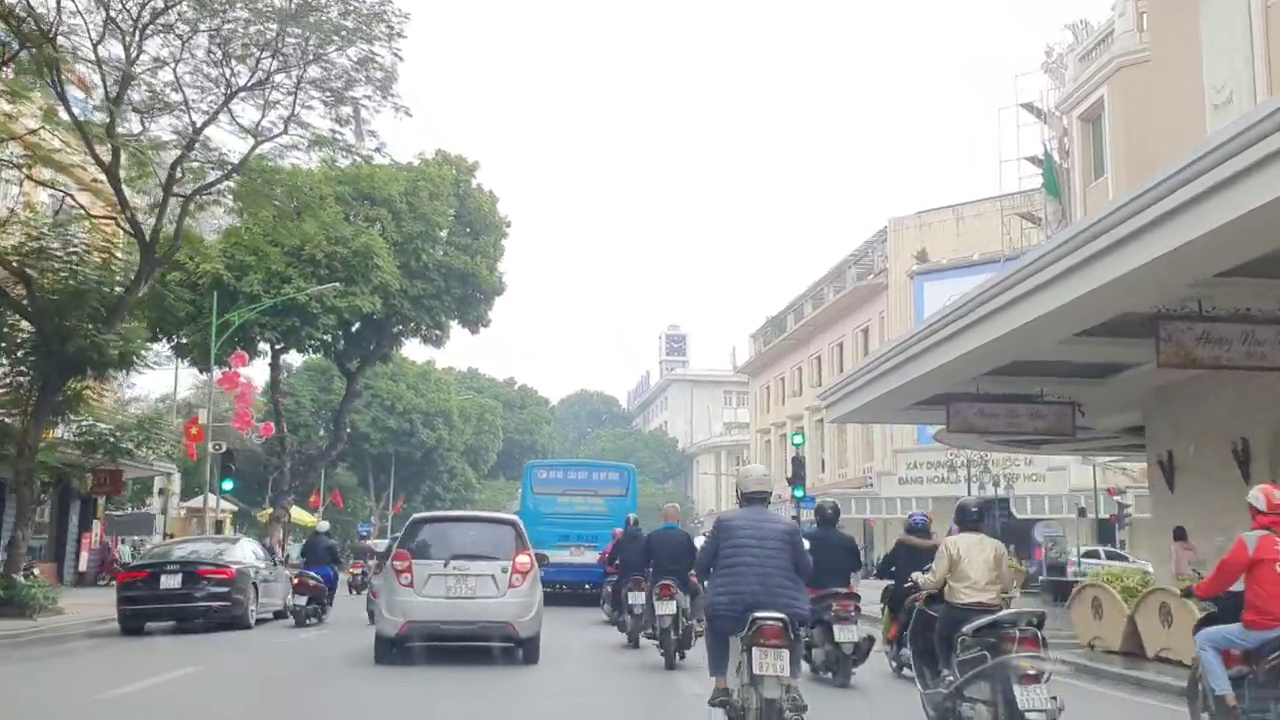person: (752, 645, 793, 677), (1011, 681, 1054, 711), (830, 622, 858, 641), (157, 573, 182, 590), (652, 600, 678, 614), (626, 591, 645, 605), (290, 593, 307, 608)
